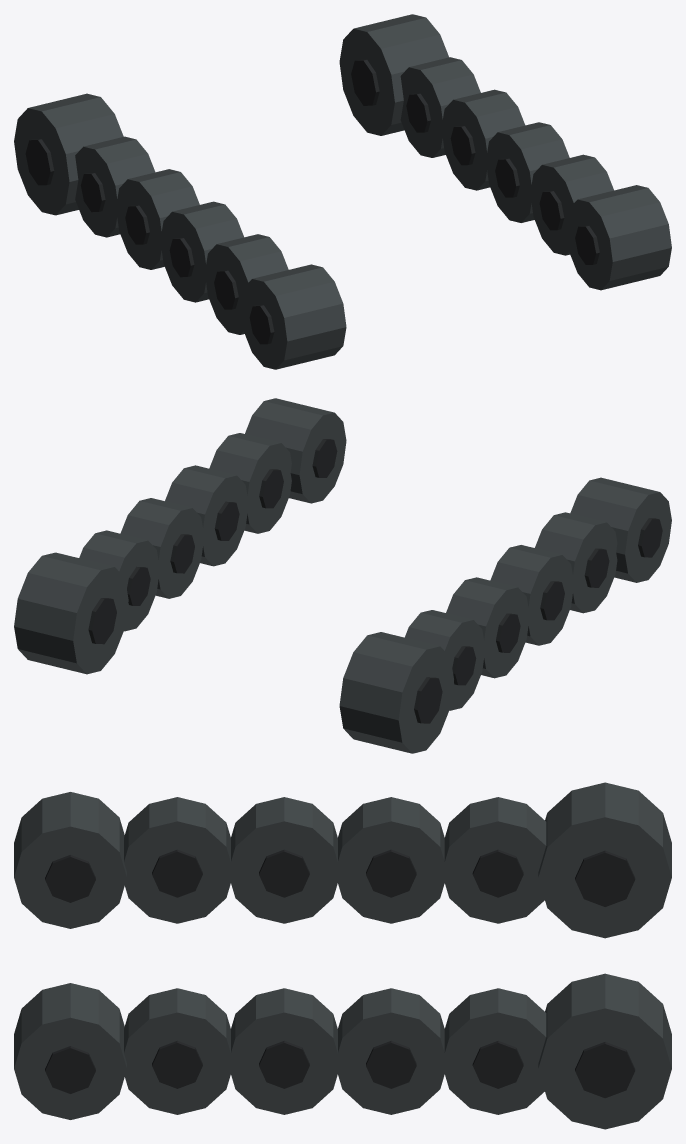
The model's file is tank_wheels.glb.
The picture shows the model from 3 angles, top to bottom: view 1: azimuth 30°, elevation 25°; view 2: azimuth 150°, elevation 25°; view 3: azimuth 270°, elevation 25°; orthographic projection. The views are drawn at different scales.
Parts seen in each view (by area): view 1: tank_idler_R, tank_idler_L, tank_sprocket_R, tank_sprocket_L, tank_wheel_L1, tank_wheel_R1, tank_wheel_R2, tank_wheel_L2, tank_wheel_R3, tank_wheel_L3, tank_wheel_R0, tank_wheel_L0; view 2: tank_sprocket_L, tank_sprocket_R, tank_idler_L, tank_idler_R, tank_wheel_R1, tank_wheel_L1, tank_wheel_L0, tank_wheel_L2, tank_wheel_R2, tank_wheel_R0, tank_wheel_R3, tank_wheel_L3; view 3: tank_sprocket_L, tank_sprocket_R, tank_idler_R, tank_idler_L, tank_wheel_L1, tank_wheel_L2, tank_wheel_R2, tank_wheel_R1, tank_wheel_L0, tank_wheel_R0, tank_wheel_L3, tank_wheel_R3.
Boxes of the visible parts, x1=… form: tank_idler_R: x1=240, y1=264, x2=346, y2=369; tank_idler_L: x1=566, y1=185, x2=671, y2=290; tank_sprocket_R: x1=14, y1=93, x2=123, y2=215; tank_sprocket_L: x1=339, y1=14, x2=448, y2=135; tank_wheel_L1: x1=486, y1=122, x2=569, y2=222; tank_wheel_R1: x1=160, y1=201, x2=243, y2=302; tank_wheel_R2: x1=117, y1=169, x2=199, y2=269; tank_wheel_L2: x1=442, y1=89, x2=525, y2=190; tank_wheel_R3: x1=75, y1=136, x2=155, y2=237; tank_wheel_L3: x1=400, y1=57, x2=480, y2=157; tank_wheel_R0: x1=205, y1=234, x2=288, y2=334; tank_wheel_L0: x1=531, y1=154, x2=613, y2=255; tank_sprocket_L: x1=14, y1=552, x2=128, y2=674; tank_sprocket_R: x1=339, y1=632, x2=453, y2=753; tank_idler_L: x1=245, y1=398, x2=346, y2=503; tank_idler_R: x1=570, y1=477, x2=671, y2=582; tank_wheel_R1: x1=490, y1=545, x2=574, y2=645; tank_wheel_L1: x1=165, y1=465, x2=247, y2=566; tank_wheel_L0: x1=209, y1=433, x2=291, y2=533; tank_wheel_L2: x1=120, y1=498, x2=202, y2=598; tank_wheel_R2: x1=446, y1=577, x2=528, y2=678; tank_wheel_R0: x1=535, y1=512, x2=617, y2=613; tank_wheel_R3: x1=404, y1=610, x2=485, y2=710; tank_wheel_L3: x1=79, y1=530, x2=158, y2=631; tank_sprocket_L: x1=538, y1=973, x2=671, y2=1129; tank_sprocket_R: x1=538, y1=782, x2=671, y2=938; tank_idler_R: x1=14, y1=792, x2=126, y2=928; tank_idler_L: x1=14, y1=983, x2=126, y2=1119; tank_wheel_L1: x1=228, y1=988, x2=340, y2=1114; tank_wheel_L2: x1=335, y1=988, x2=447, y2=1114; tank_wheel_R2: x1=335, y1=797, x2=447, y2=923; tank_wheel_R1: x1=229, y1=797, x2=340, y2=923; tank_wheel_L0: x1=124, y1=988, x2=233, y2=1114; tank_wheel_R0: x1=124, y1=797, x2=233, y2=923; tank_wheel_L3: x1=442, y1=988, x2=546, y2=1114; tank_wheel_R3: x1=443, y1=797, x2=546, y2=923.
Size of the model in its own units: 1.06 by 0.26 by 1.28.
Materials: 1 (1 with a texture image).
